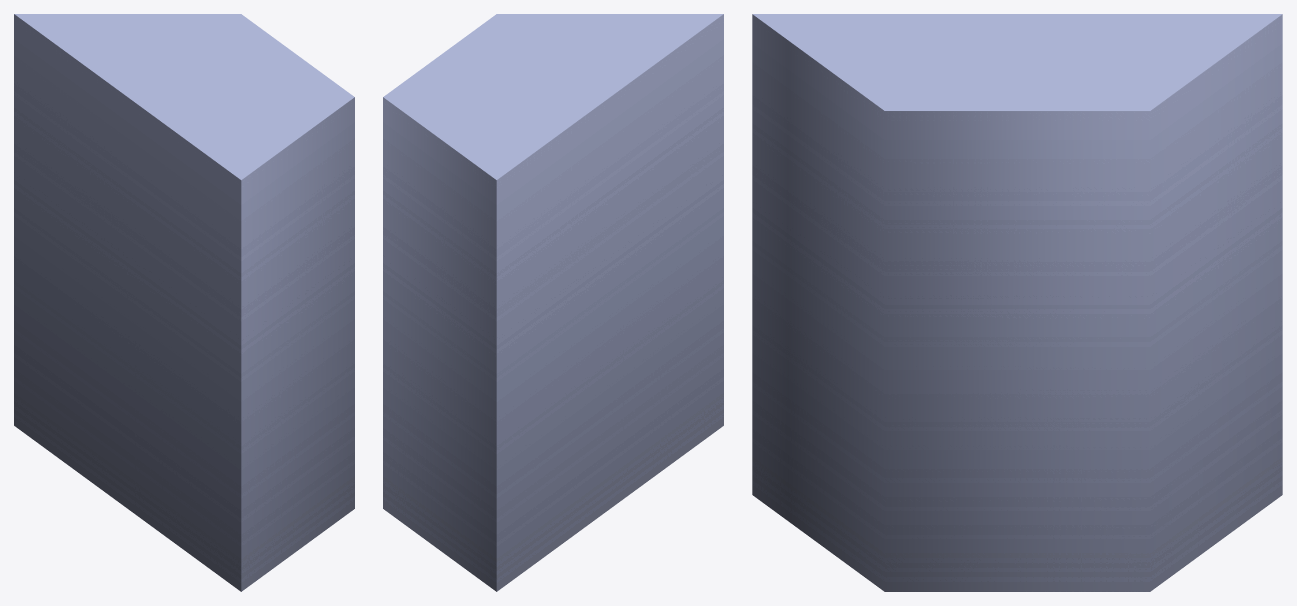
The model's file is shape-hexagon-half.glb.
The picture shows the model from 3 angles, left to right: view 1: azimuth 30°, elevation 25°; view 2: azimuth 150°, elevation 25°; view 3: azimuth 270°, elevation 25°; orthographic projection. The views are drawn at different scales.
Visible parts, largest first — view 1: shape-hexagon-half; view 2: shape-hexagon-half; view 3: shape-hexagon-half.
Boxes of the visible parts, box(x1,y1,x2,y2) form: shape-hexagon-half: box(14, 14, 354, 591); shape-hexagon-half: box(383, 14, 723, 591); shape-hexagon-half: box(752, 14, 1282, 591).
Size of the model in its own units: 0.433 by 1 by 1.
Materials: 1 (1 with a texture image).
